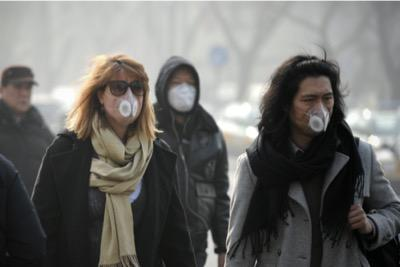with_mask: (294, 87, 335, 134), (103, 77, 142, 123), (168, 75, 197, 114)
without_mask: (6, 80, 33, 112)
